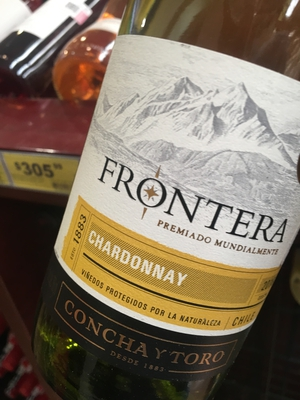frontera chardonnay: (53, 20, 300, 386)
